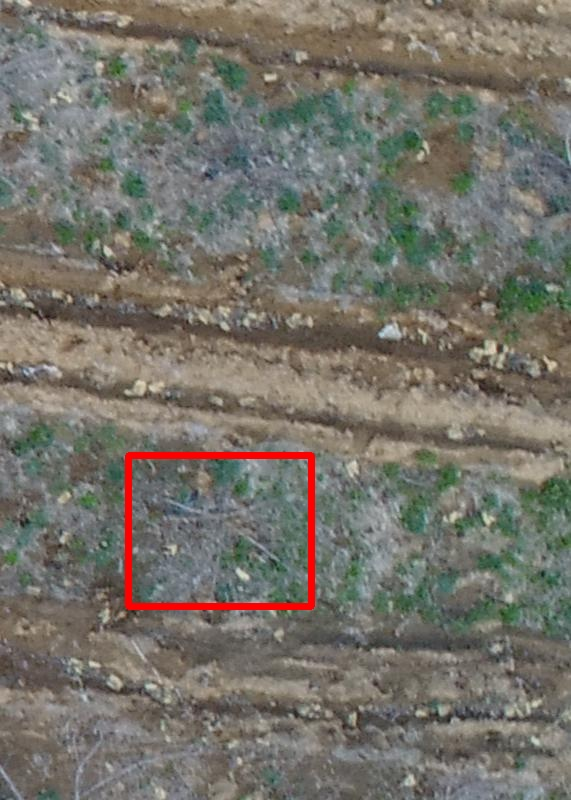apple: (128, 455, 311, 606)
